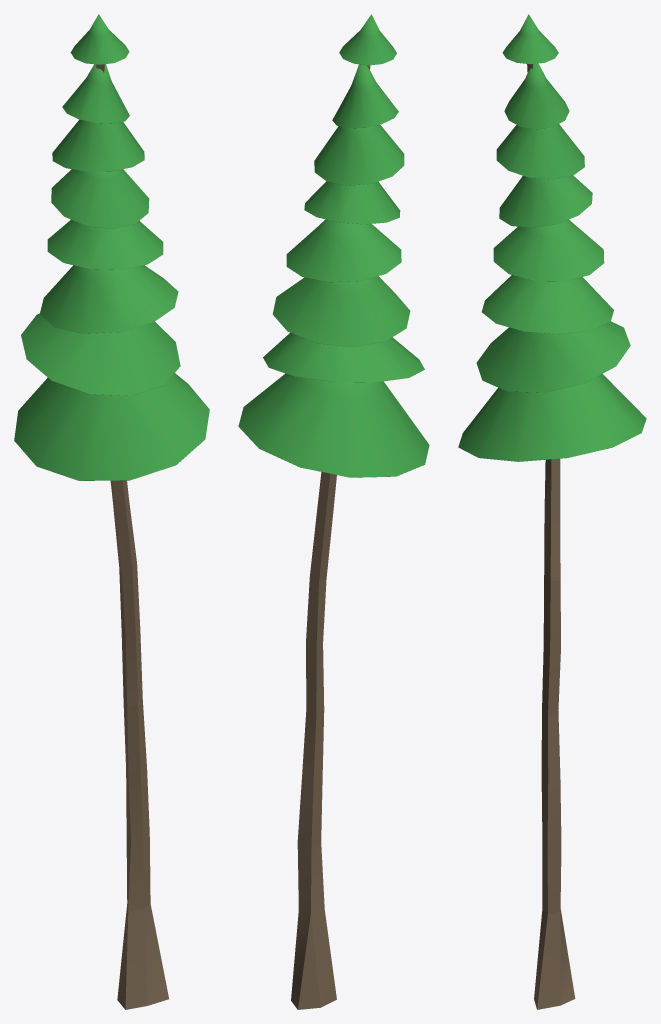
Rendered from pine_g.FBX.
3 views of the same model, side by side, from view 1: azimuth 30°, elevation 25°; view 2: azimuth 150°, elevation 25°; view 3: azimuth 270°, elevation 25° (orthographic). The views are drawn at different scales.
Visible parts, largest first — view 1: pine_g; view 2: pine_g; view 3: pine_g.
Boxes of the visible parts, x1,y1,x2,y2 form: pine_g: (14,14,209,1009); pine_g: (238,14,429,1009); pine_g: (458,14,646,1009).
Size of the model in its own units: 1.89 by 10.81 by 1.92.
